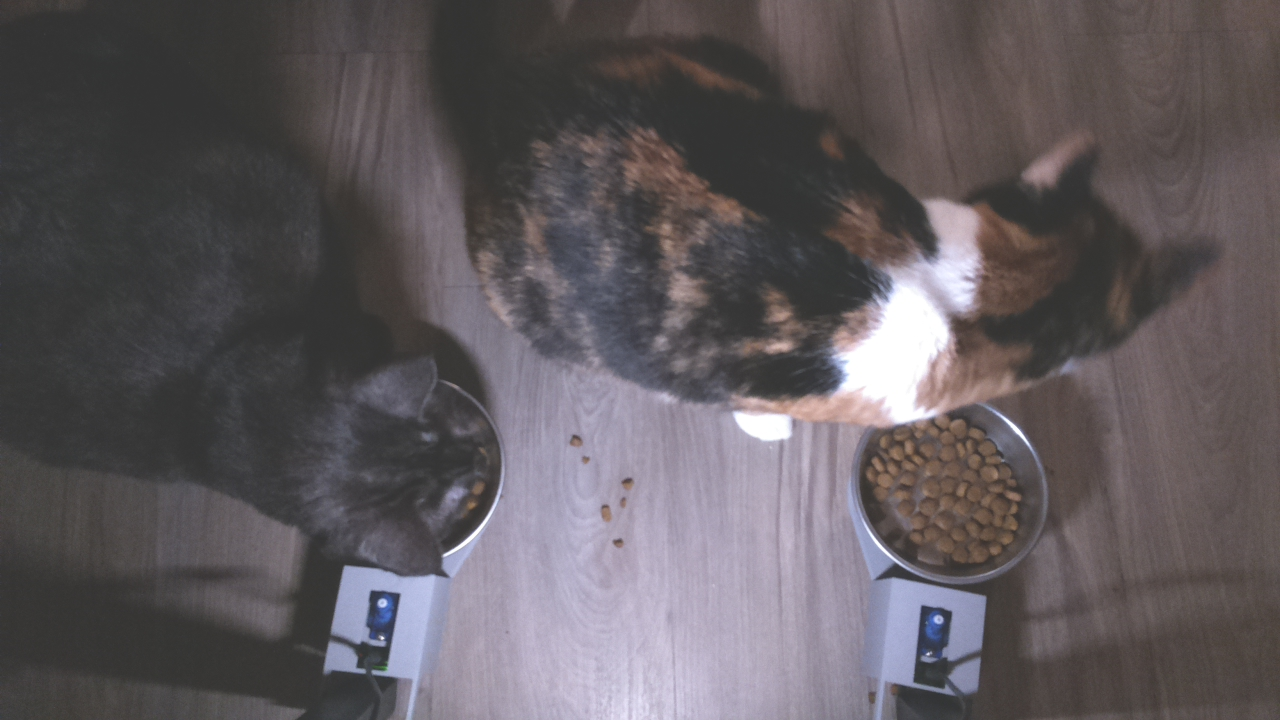bella: (921, 127, 1239, 382)
open_bowl: (848, 403, 1049, 586)
saki_eating: (259, 313, 508, 589)
